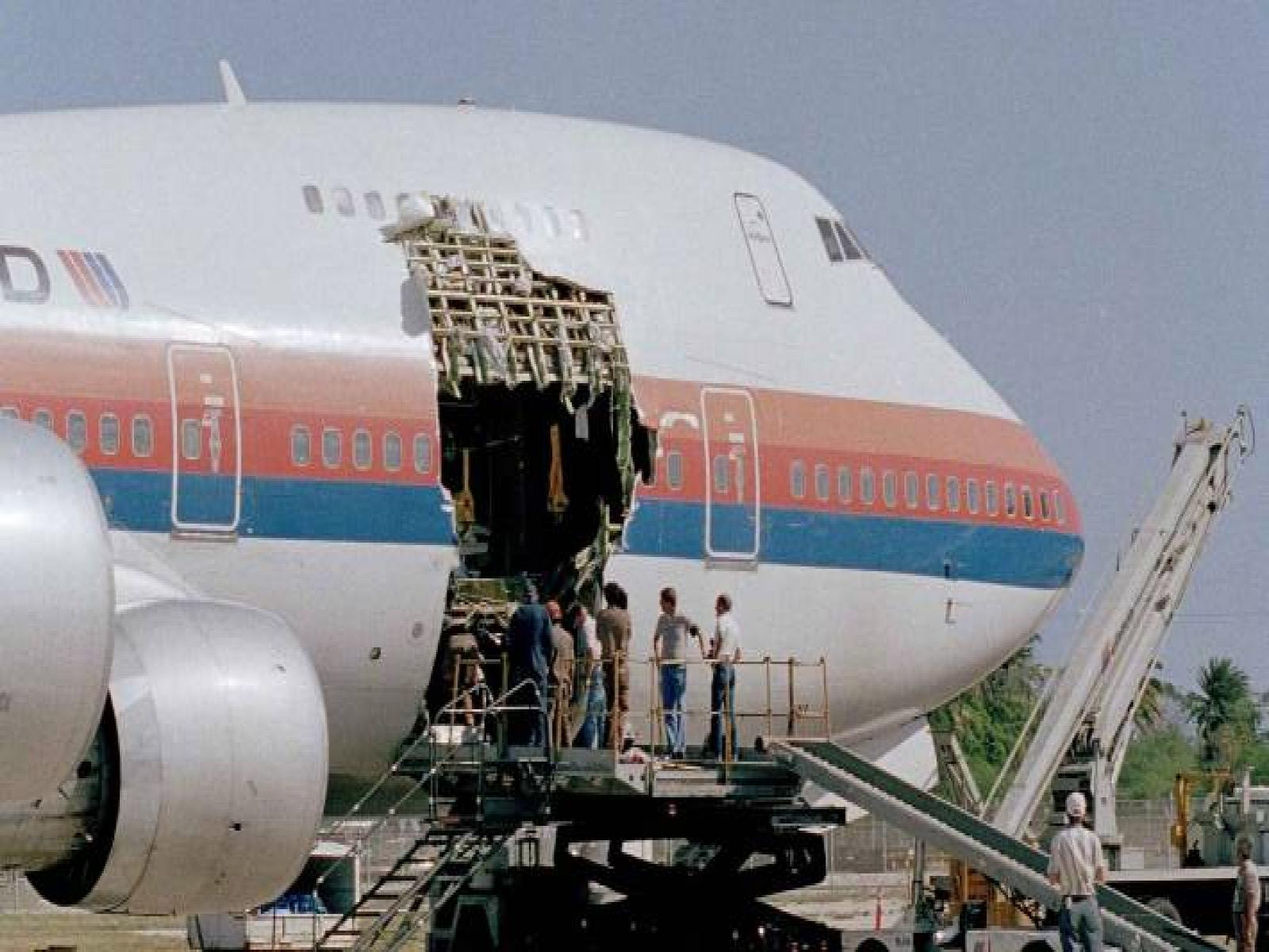Fuselage_damage: (388, 198, 656, 595), (433, 631, 486, 726), (452, 578, 511, 612)
